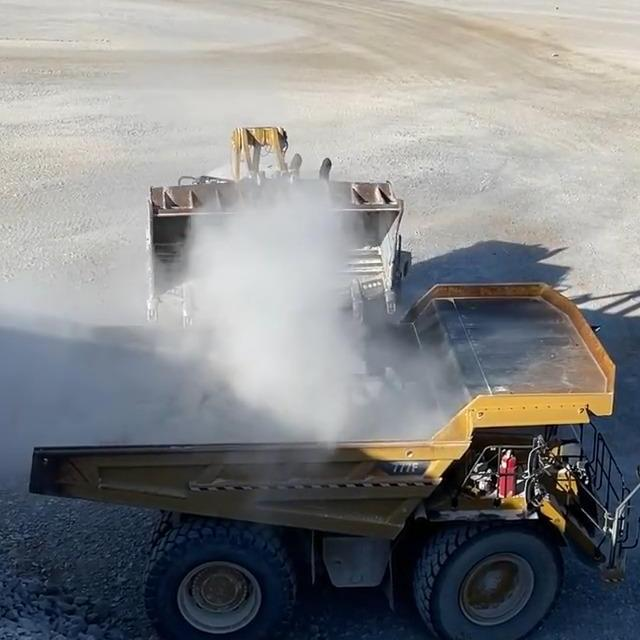dump truck: (17, 269, 640, 640)
wheel loader: (141, 115, 423, 329)
